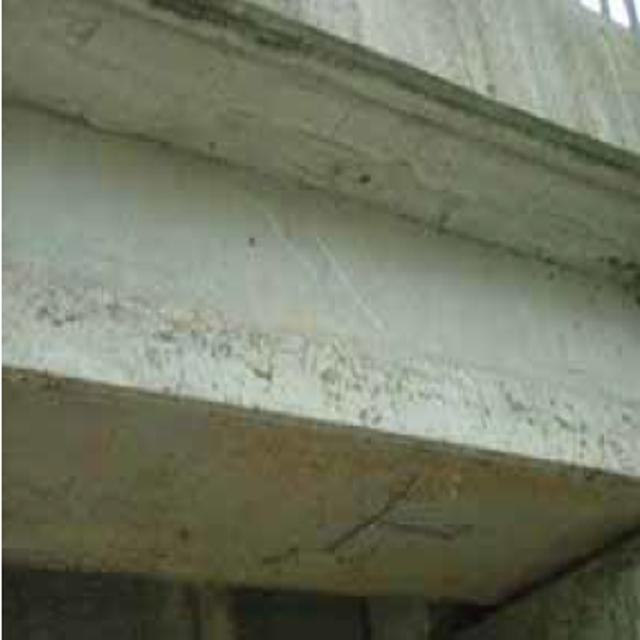crack: (296, 439, 471, 604)
